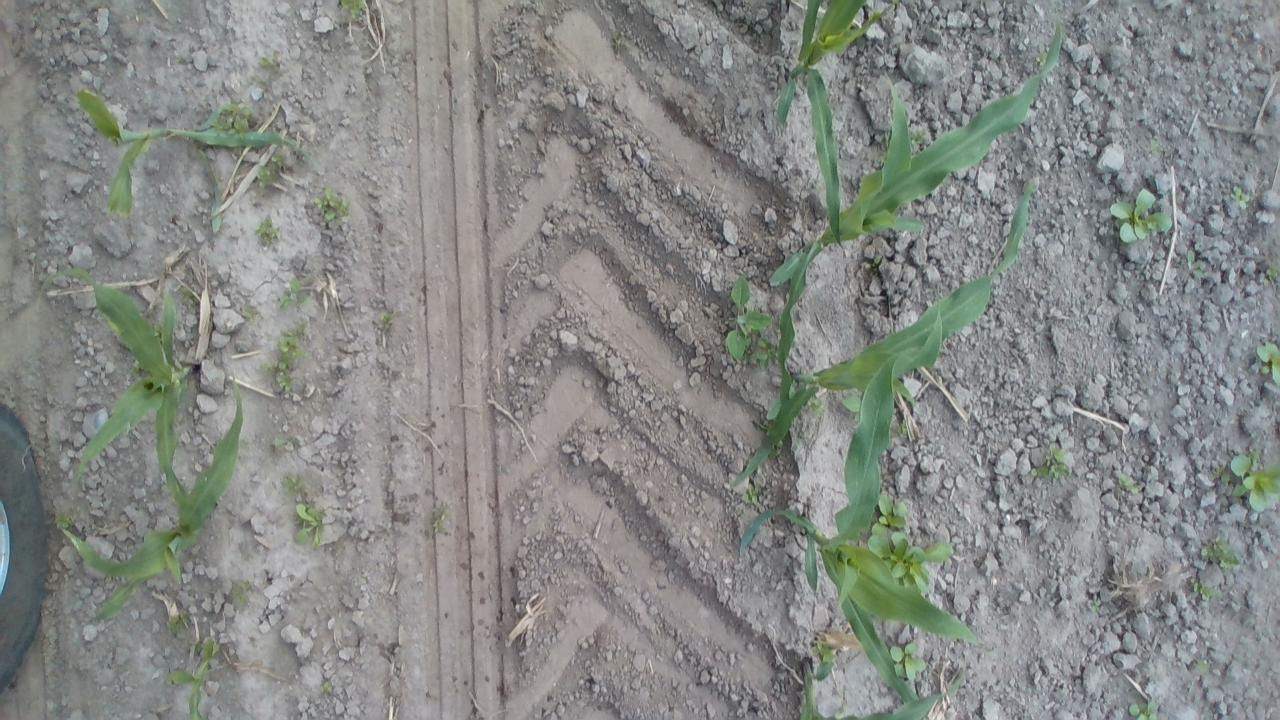Maize: (768, 17, 1063, 420), (732, 306, 986, 698), (731, 184, 1034, 488), (64, 365, 247, 627), (36, 266, 196, 504), (776, 0, 901, 254), (74, 84, 298, 212), (796, 656, 970, 720), (164, 634, 222, 720)
Weeds: (871, 489, 954, 595), (721, 271, 775, 359), (1106, 182, 1174, 245), (256, 316, 312, 388), (1228, 445, 1280, 512), (1198, 531, 1242, 573), (1032, 435, 1069, 483), (291, 500, 324, 550), (211, 100, 255, 135), (312, 186, 352, 223), (890, 640, 926, 680), (254, 153, 286, 190), (1256, 338, 1280, 385), (278, 276, 310, 308), (754, 336, 779, 371), (255, 212, 280, 244), (1190, 576, 1220, 602), (187, 638, 220, 660), (230, 578, 254, 608), (1228, 183, 1252, 212), (1127, 700, 1161, 720), (164, 611, 191, 636), (1116, 472, 1141, 498), (428, 504, 448, 536), (280, 472, 306, 496), (271, 436, 302, 456), (1184, 248, 1206, 276), (742, 478, 762, 506), (56, 508, 76, 532), (340, 0, 364, 20), (258, 52, 282, 71), (1212, 462, 1232, 484), (240, 302, 260, 324), (808, 397, 828, 417), (842, 395, 859, 418), (1263, 261, 1280, 284), (177, 286, 194, 306), (378, 312, 396, 329), (912, 126, 928, 144), (1148, 138, 1164, 155), (863, 255, 881, 270), (320, 678, 334, 697), (1090, 598, 1104, 612), (1195, 660, 1211, 672), (771, 444, 784, 458), (897, 420, 907, 436), (1034, 49, 1046, 62)
